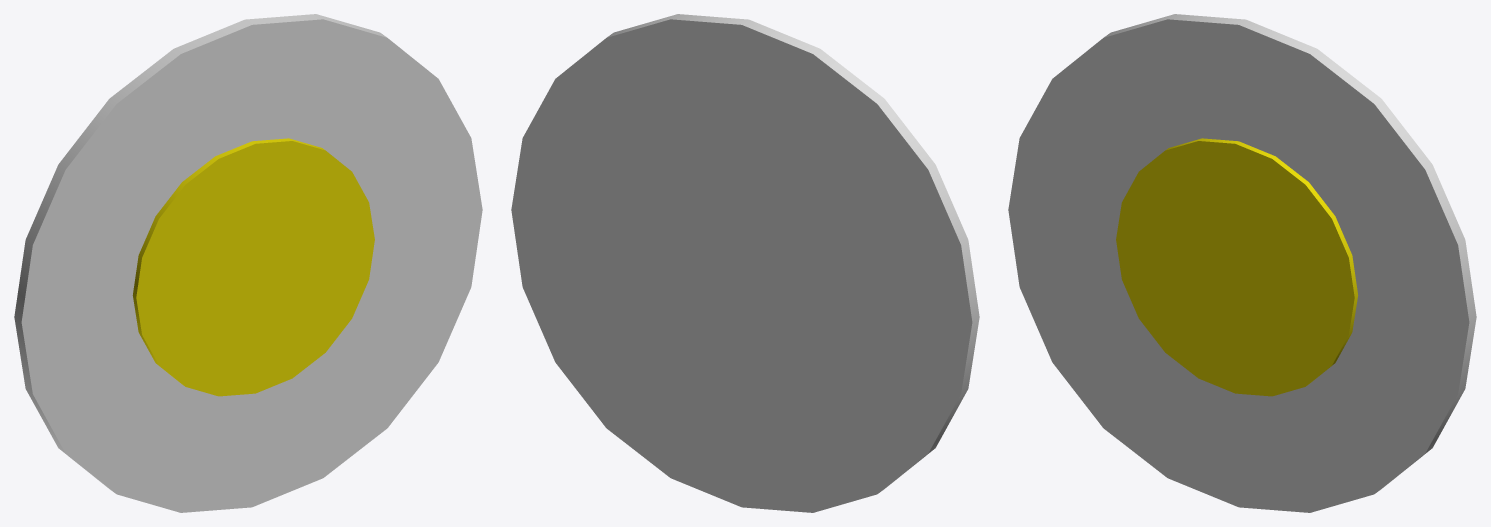
The model's file is target.fbx.
The picture shows the model from 3 angles, left to right: view 1: azimuth 30°, elevation 25°; view 2: azimuth 150°, elevation 25°; view 3: azimuth 330°, elevation 25°; orthographic projection.
Parts seen in each view (by area): view 1: pCylinder1, pCylinder2; view 2: pCylinder1; view 3: pCylinder1, pCylinder2.
Boxes of the visible parts, x1,y1,x2,y2 form: pCylinder1: [14, 14, 482, 512]; pCylinder2: [132, 138, 374, 396]; pCylinder1: [511, 14, 979, 512]; pCylinder1: [1008, 14, 1476, 512]; pCylinder2: [1116, 138, 1358, 396].
Bounding box in the file's own units: 14.74 × 14.74 × 0.5956.
